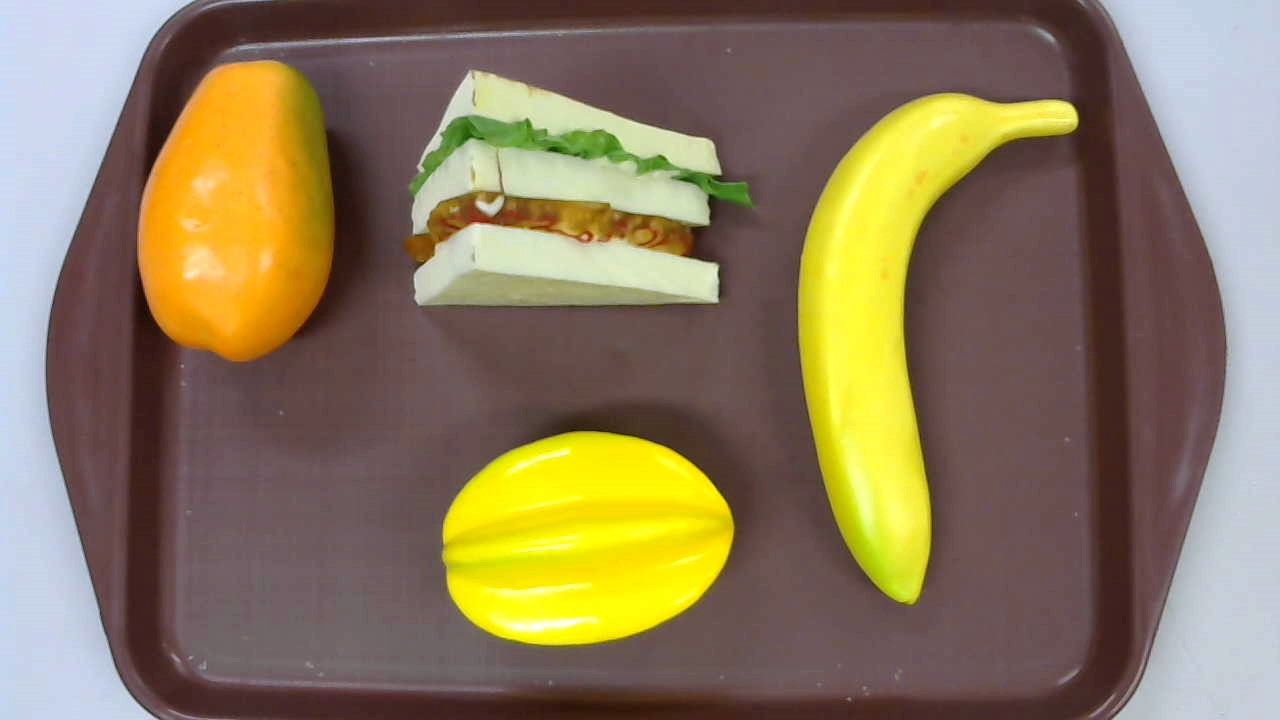banana: (798, 92, 1078, 605)
papya: (138, 60, 334, 363)
sandwich: (405, 70, 760, 312)
star fruit: (441, 429, 735, 646)
